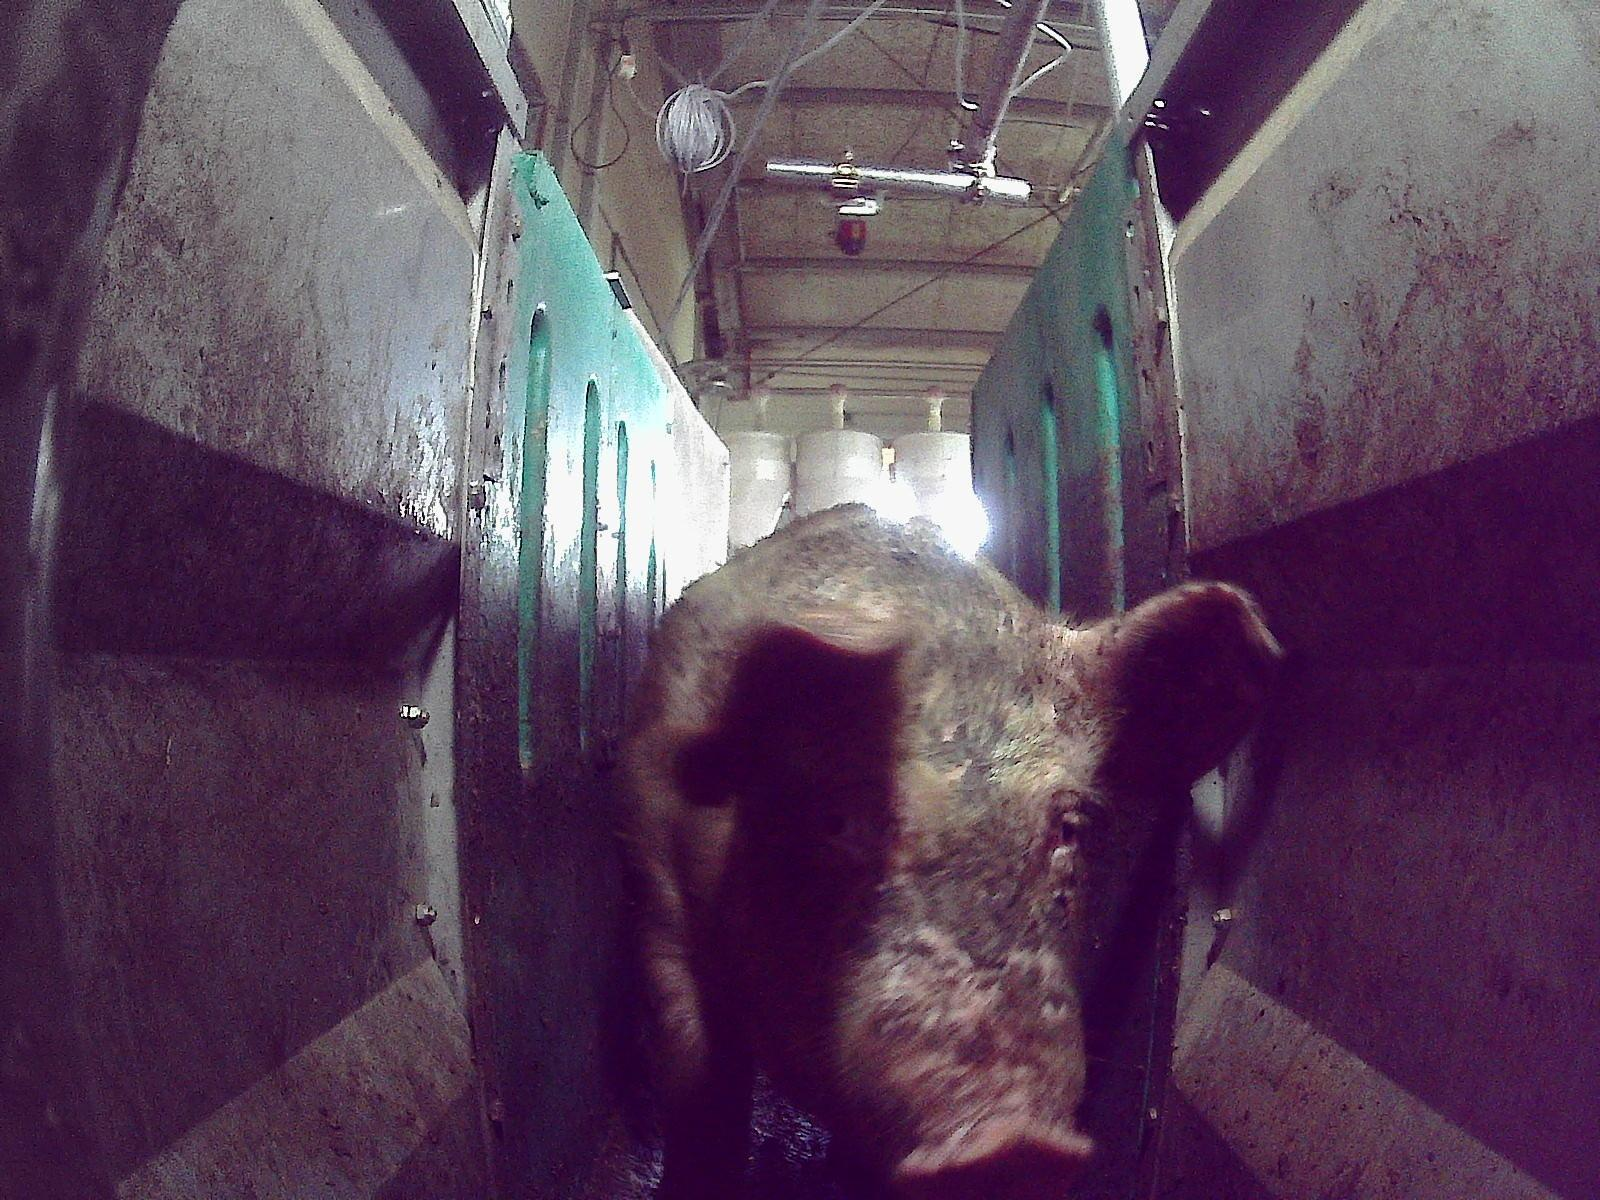Face: (753, 613, 1150, 1198)
